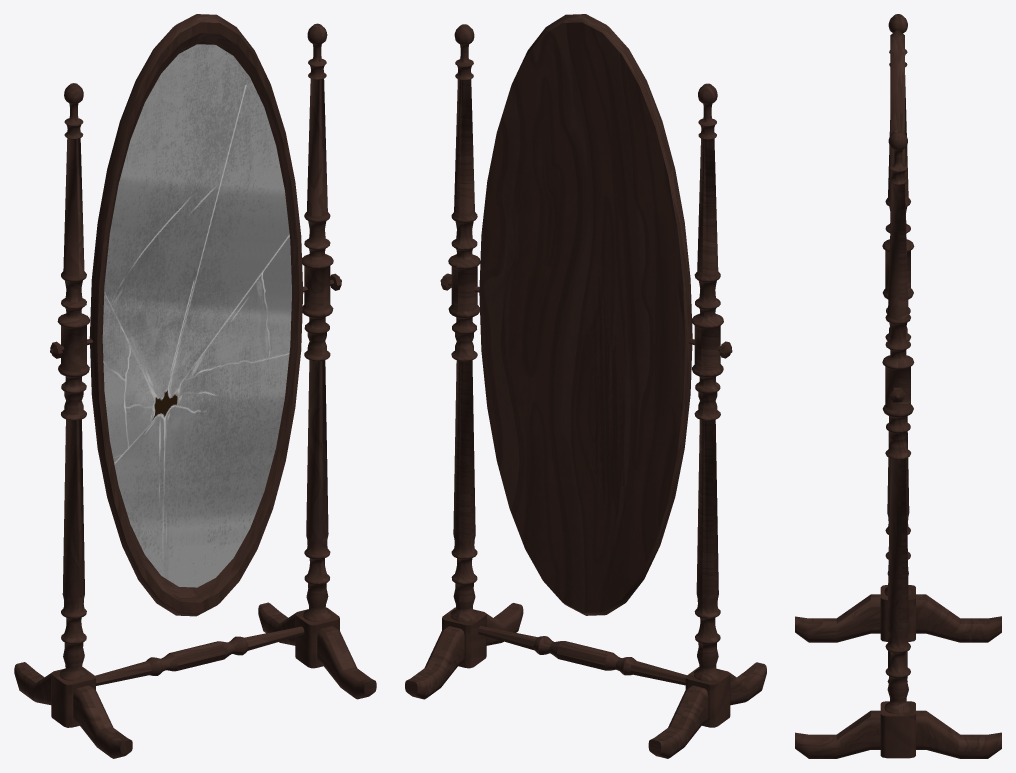
File: Ayna orjin.fbx
The picture shows the model from 3 angles, left to right: view 1: azimuth 30°, elevation 25°; view 2: azimuth 150°, elevation 25°; view 3: azimuth 270°, elevation 25°; orthographic projection. The views are drawn at different scales.
Visible parts, largest first — view 1: ayna, ayna dış ayaklar.001, ayak ön, alt birleşim, ayak alt, ayak arka; view 2: ayna, ayna dış ayaklar.001, ayak arka, alt birleşim, ayak alt, ayak ön; view 3: ayna dış ayaklar.001, ayak arka, ayak ön, ayak alt, ayna.
Part boxes in pixels (bbox=[...]): ayna: bbox=[89, 14, 303, 616]; ayna dış ayaklar.001: bbox=[57, 23, 333, 681]; ayak ön: bbox=[73, 626, 376, 758]; alt birleşim: bbox=[95, 626, 304, 685]; ayak alt: bbox=[51, 607, 339, 727]; ayak arka: bbox=[14, 602, 307, 704]; ayna: bbox=[479, 14, 692, 615]; ayna dış ayaklar.001: bbox=[448, 24, 723, 681]; ayak arka: bbox=[405, 626, 708, 758]; alt birleşim: bbox=[478, 626, 686, 685]; ayak alt: bbox=[442, 607, 730, 727]; ayak ön: bbox=[486, 603, 766, 705]; ayna dış ayaklar.001: bbox=[882, 14, 914, 714]; ayak arka: bbox=[916, 594, 1001, 758]; ayak ön: bbox=[795, 594, 880, 758]; ayak alt: bbox=[880, 585, 915, 758]; ayna: bbox=[890, 29, 904, 440].
Size of the model in its own units: 47.84 by 107 by 30.19.
Materials: 2 (2 with a texture image).
